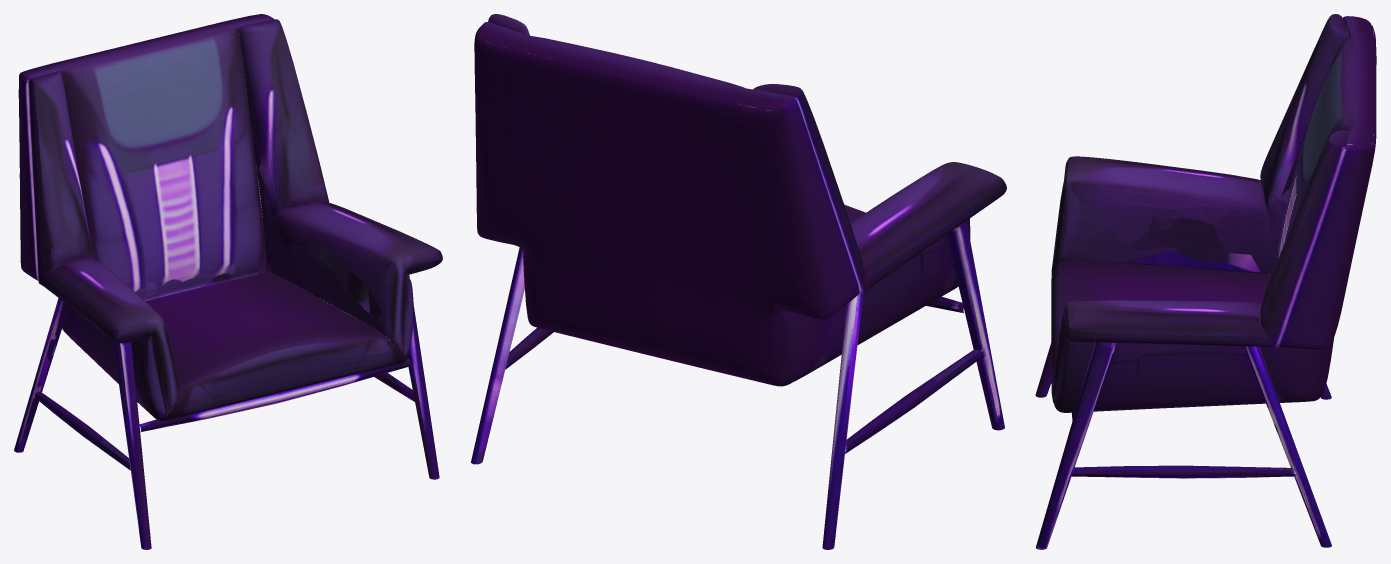
File: edited_mesh.glb
The picture shows the model from 3 angles, left to right: view 1: azimuth 30°, elevation 25°; view 2: azimuth 150°, elevation 25°; view 3: azimuth 270°, elevation 25°; orthographic projection. The views are drawn at different scales.
Visible parts, largest first — view 1: solid_001_wire; view 2: solid_001_wire; view 3: solid_001_wire.
Boxes of the visible parts, <box> form: solid_001_wire: <box>14,14,442,549</box>; solid_001_wire: <box>471,14,1006,549</box>; solid_001_wire: <box>1035,14,1376,549</box>.
Size of the model in its own units: 1.29 by 1.36 by 1.06.
1 material, 1 textured.
